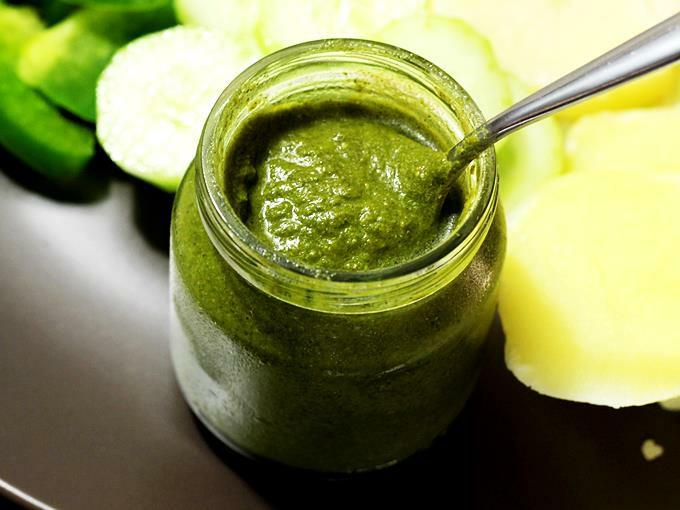GreenChutney: (170, 97, 502, 467)
